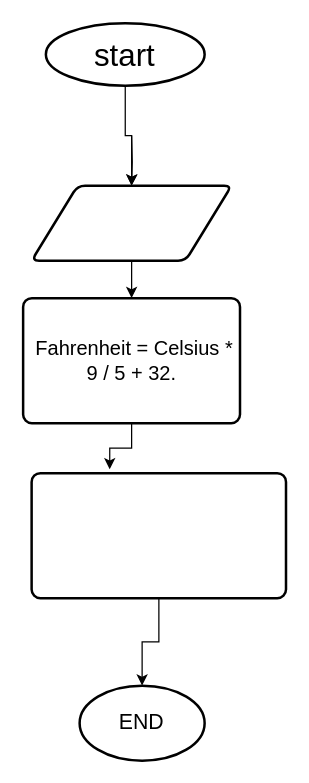
This 309x783 diagram has some shape labels left out. The box of each missing label's shape, as (x1, y1, x2, y2) in pixels:
Enter temperature in Celsius:: (30, 184, 232, 261)
PRINT TEMPERATURE IN CELSIUS AND FARENHEIT: (30, 471, 287, 599)
